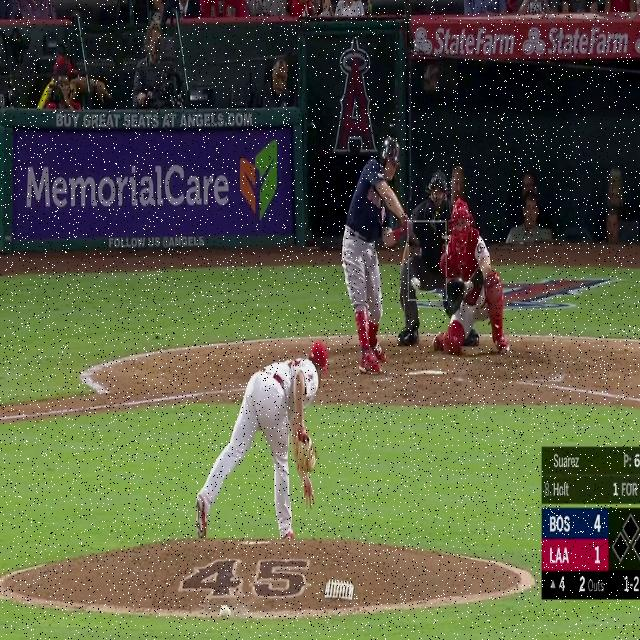baseball: (410, 276, 420, 290)
